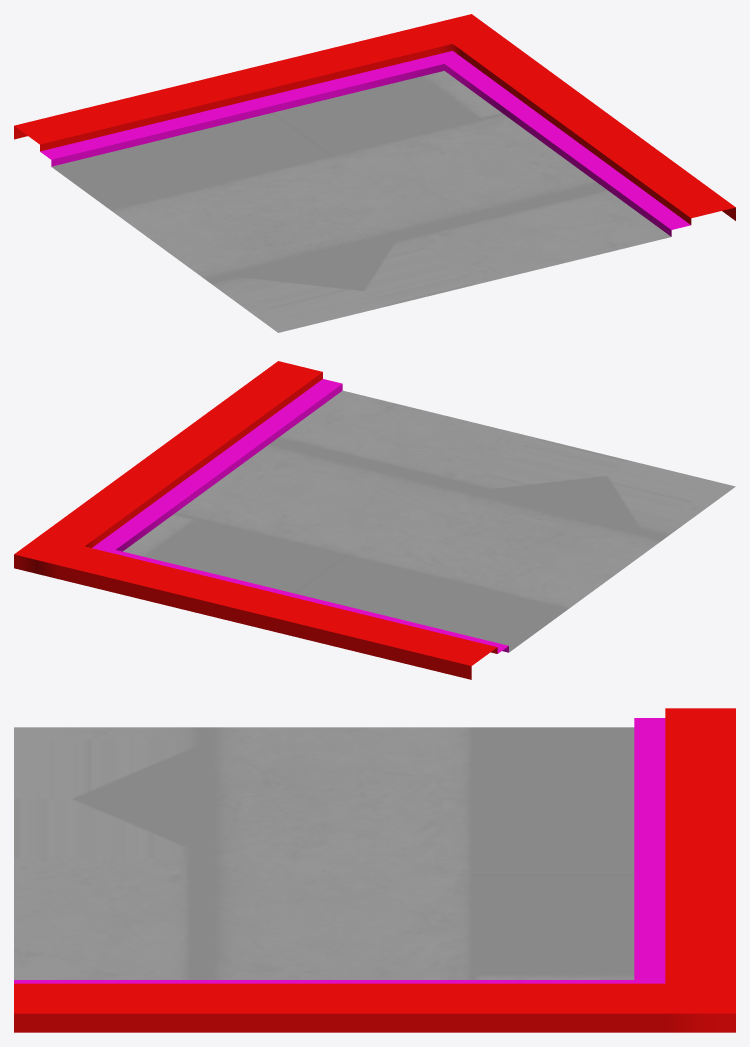
File: Floor-Corner.fbx
The picture shows the model from 3 angles, top to bottom: view 1: azimuth 30°, elevation 25°; view 2: azimuth 150°, elevation 25°; view 3: azimuth 270°, elevation 25°; orthographic projection. The views are drawn at different scales.
Parts seen in each view (by area): view 1: Corner; view 2: Corner; view 3: Corner.
Boxes of the visible parts, bbox=[...] form: Corner: bbox=[14, 14, 735, 332]; Corner: bbox=[14, 361, 735, 679]; Corner: bbox=[14, 708, 735, 1032].
Bounding box in the file's own units: 78.74 × 2.28 × 78.74.
3 materials, 1 textured.
